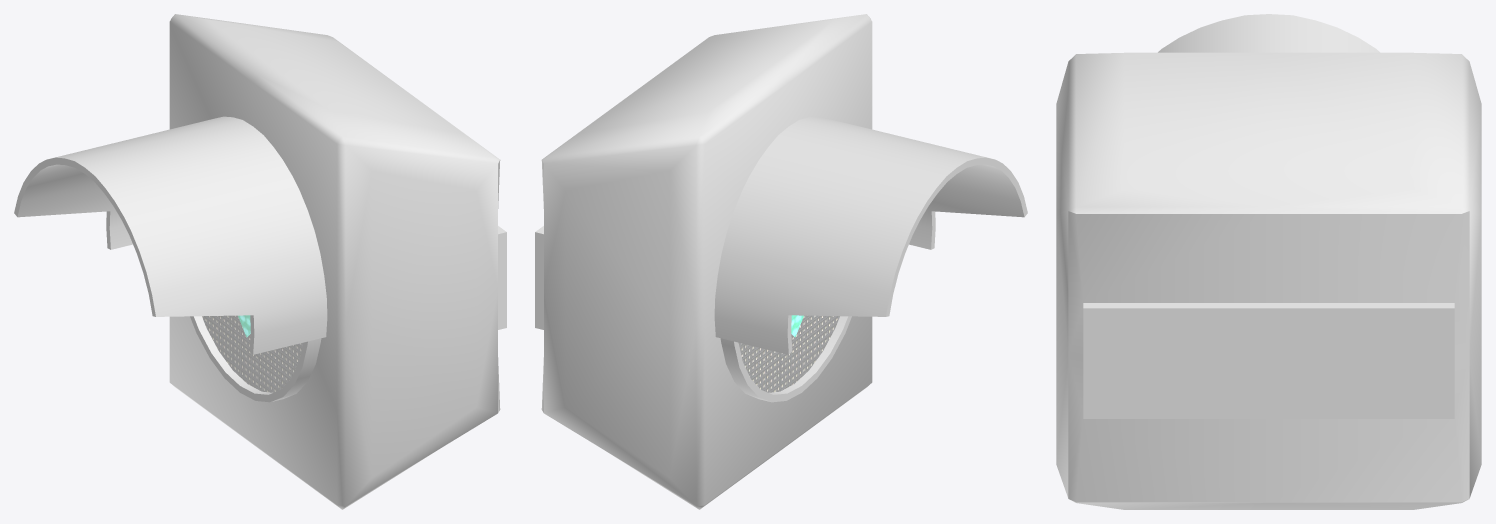
File: 车道信号灯_GreenLight.glb
3 renders of one model, left to right at view 1: azimuth 30°, elevation 25°; view 2: azimuth 150°, elevation 25°; view 3: azimuth 270°, elevation 25°, orthographic. The views are drawn at different scales.
Visible parts, largest first — view 1: 车道信号灯_GreenLight; view 2: 车道信号灯_GreenLight; view 3: 车道信号灯_GreenLight.
Part boxes in pixels (x1=…): 车道信号灯_GreenLight: x1=14, y1=14, x2=506, y2=509; 车道信号灯_GreenLight: x1=535, y1=14, x2=1027, y2=509; 车道信号灯_GreenLight: x1=1056, y1=14, x2=1481, y2=509.
Size of the model in its own units: 0.6 by 0.65 by 0.5618.
4 materials, 2 textured.
